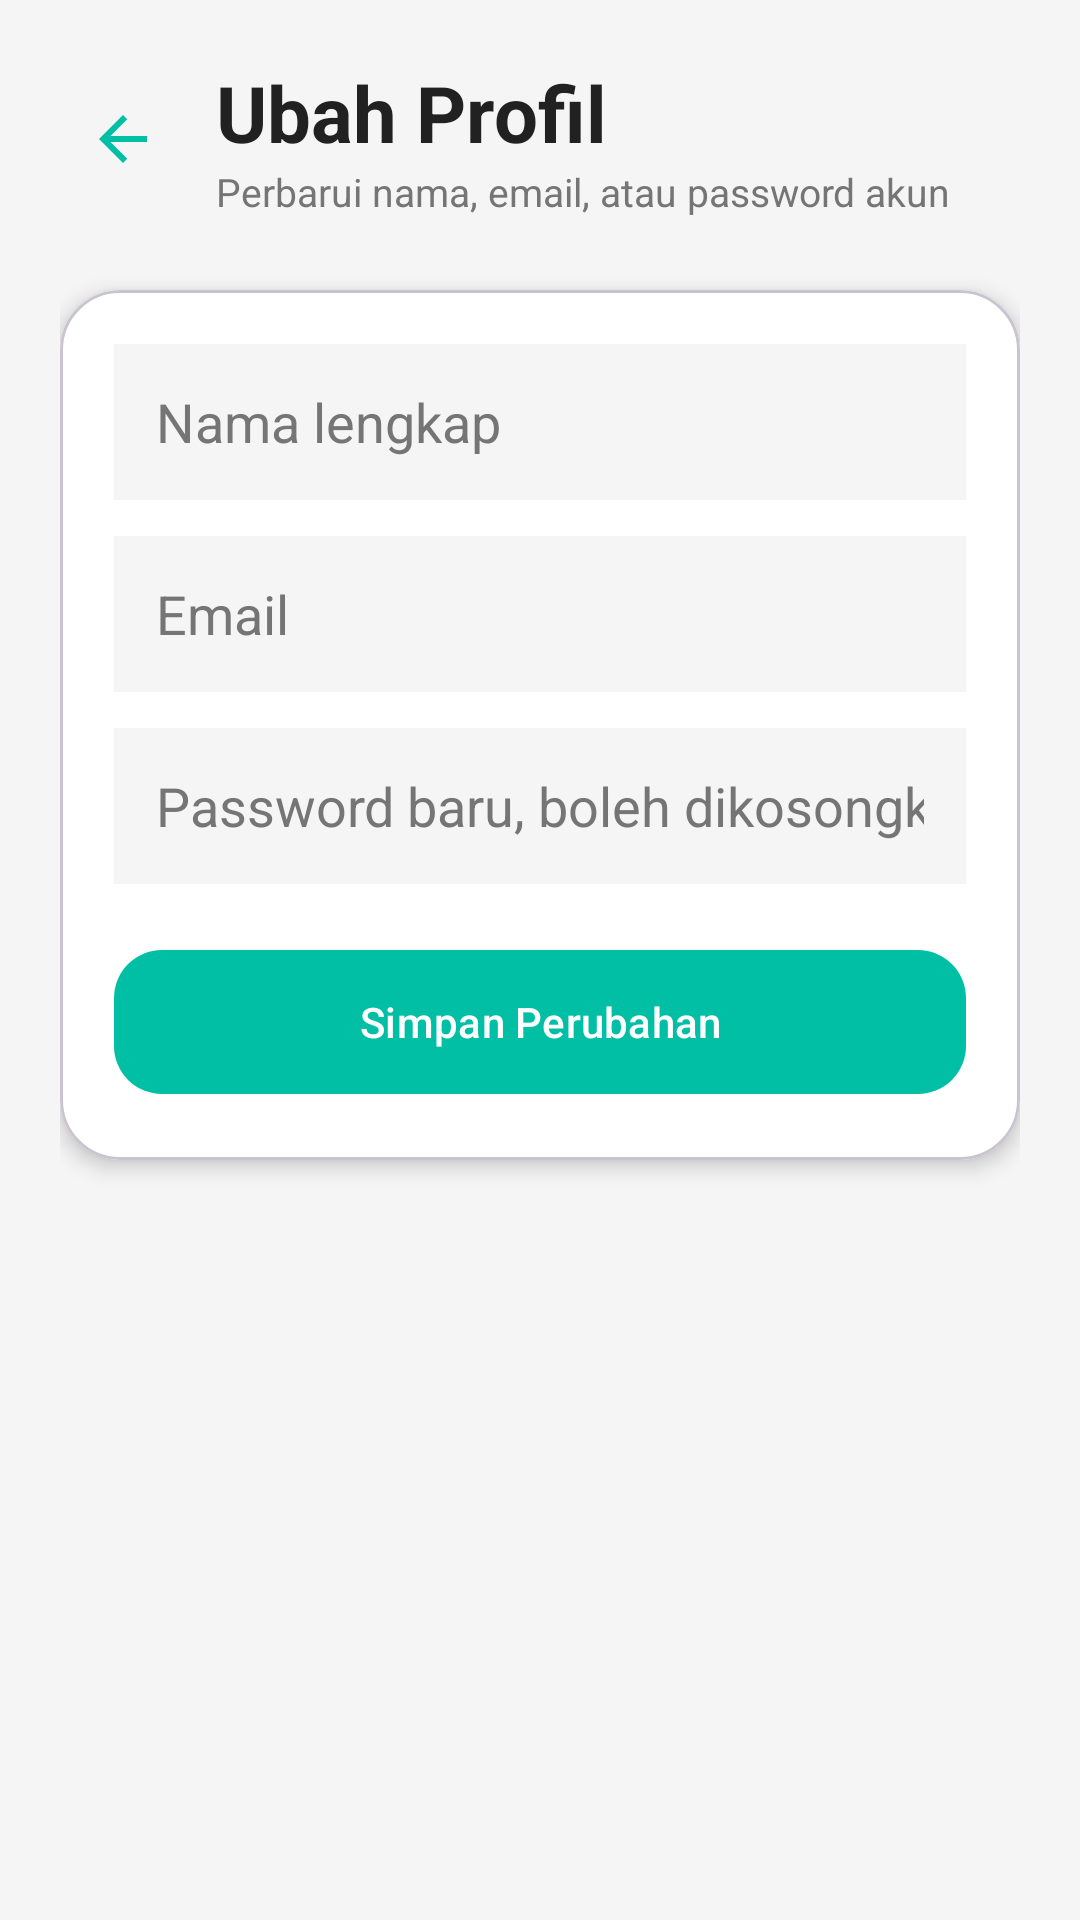

Where icons sit on this 1080 × 1920 app screen, as (x1, y1, x2, y2):
back: (99, 115, 147, 163)
